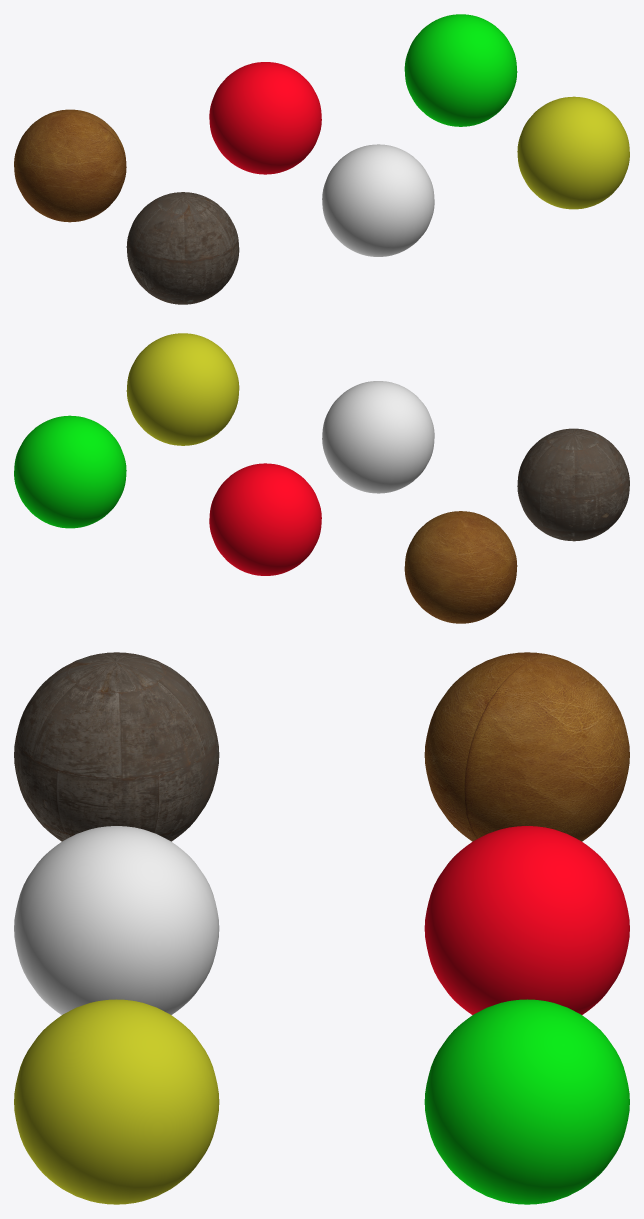
The model's file is pbr.glb.
3 views of the same model, one above another, from view 1: azimuth 30°, elevation 25°; view 2: azimuth 150°, elevation 25°; view 3: azimuth 270°, elevation 25° (orthographic). The views are drawn at different scales.
Parts seen in each view (by area): view 1: Sphere, Sphere.001, Sphere.002, Sphere.003, Sphere.004, Sphere.005; view 2: Sphere, Sphere.001, Sphere.002, Sphere.003, Sphere.004, Sphere.005; view 3: Sphere.001, Sphere.004, Sphere, Sphere.002, Sphere.003, Sphere.005.
Boxes of the visible parts, <box> form: Sphere: <box>322,144,434,256</box>; Sphere.001: <box>517,96,629,209</box>; Sphere.002: <box>126,192,239,304</box>; Sphere.003: <box>209,62,321,174</box>; Sphere.004: <box>404,14,517,126</box>; Sphere.005: <box>14,109,126,222</box>; Sphere: <box>322,381,434,493</box>; Sphere.001: <box>126,333,239,445</box>; Sphere.002: <box>517,428,629,541</box>; Sphere.003: <box>209,463,321,575</box>; Sphere.004: <box>14,415,126,528</box>; Sphere.005: <box>404,511,517,623</box>; Sphere.001: <box>14,999,219,1204</box>; Sphere.004: <box>424,999,629,1204</box>; Sphere: <box>14,826,219,1014</box>; Sphere.002: <box>14,652,219,841</box>; Sphere.003: <box>424,826,629,1014</box>; Sphere.005: <box>424,652,629,841</box>.
Bounding box in the file's own units: 5 × 1 × 3.
6 materials, 2 textured.
